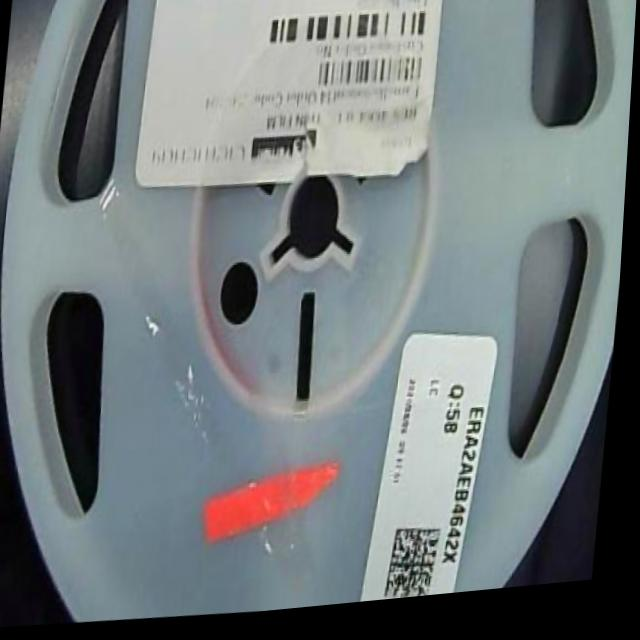datamatrix: (389, 531, 450, 609)
